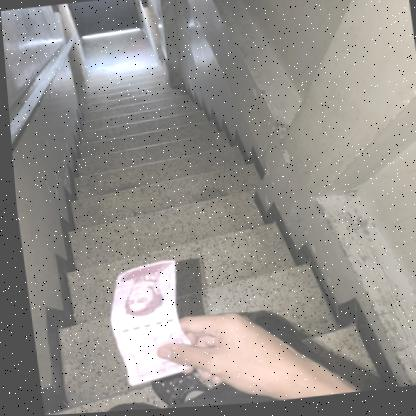one_hundred-front-vef: (98, 259, 189, 389)
